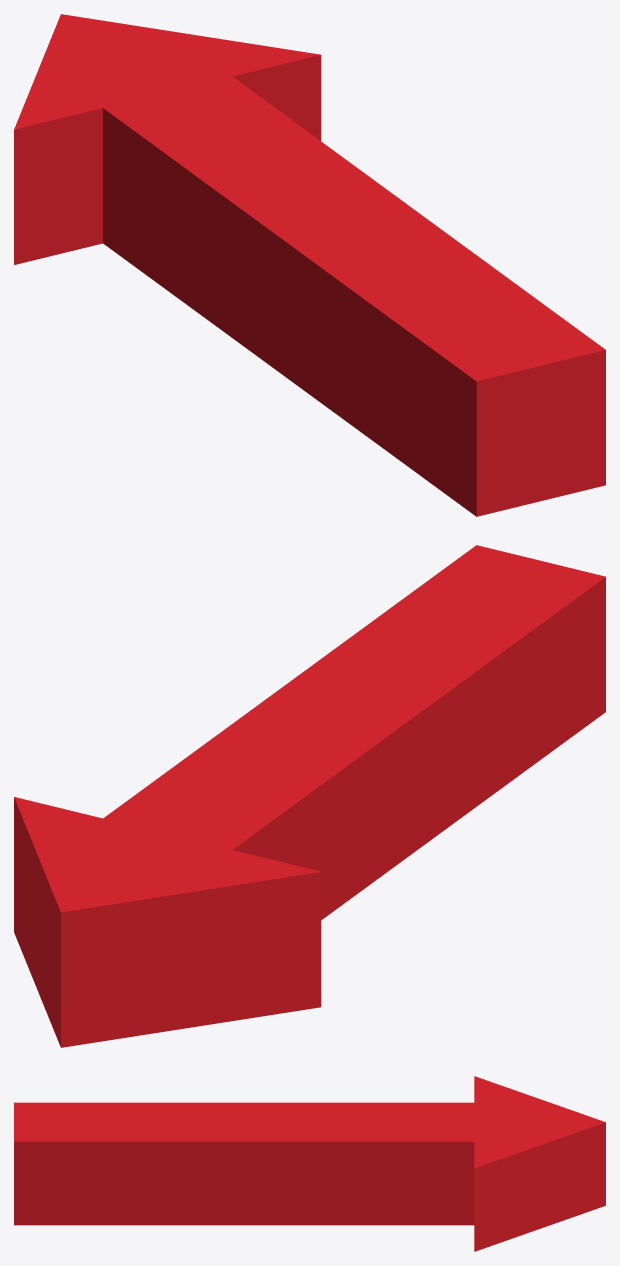
The model's file is Arrow.fbx.
3 views of the same model, one above another, from view 1: azimuth 30°, elevation 25°; view 2: azimuth 150°, elevation 25°; view 3: azimuth 270°, elevation 25° (orthographic). The views are drawn at different scales.
Visible parts, largest first — view 1: Cube; view 2: Cube; view 3: Cube.
Boxes of the visible parts, x1=… form: Cube: x1=14, y1=14, x2=605, y2=516; Cube: x1=14, y1=545, x2=605, y2=1047; Cube: x1=14, y1=1076, x2=605, y2=1251.
Size of the model in its own units: 47.52 by 20 by 129.
